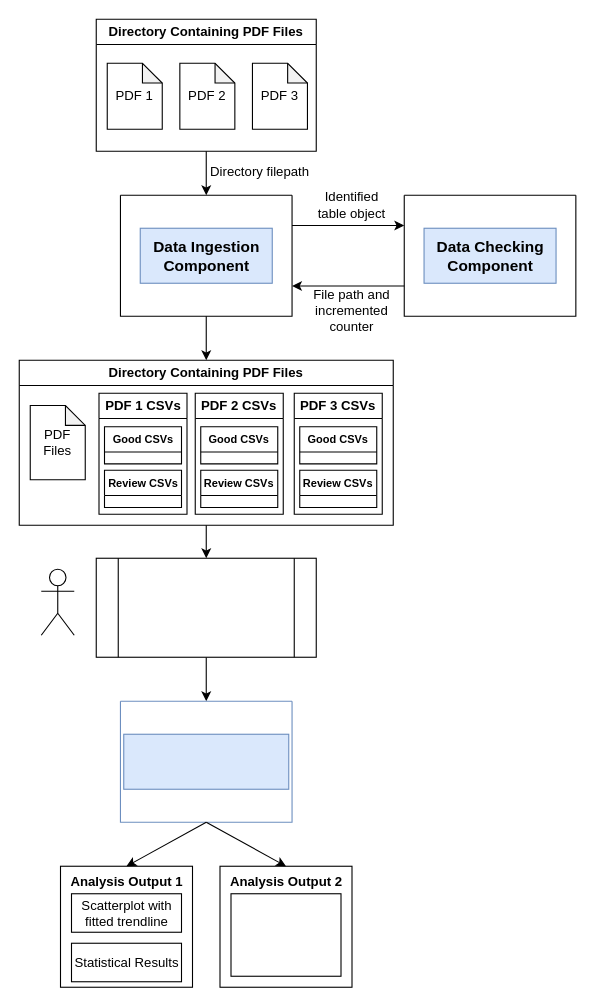
Image size: 595x1007. Some labels were removed from this diagram. The centre of each missing label's shape, as x and y in pixels:
"Actor" belongs at point (57, 601).
"Process Extracted CSVs into Datafiles for Analysis" belongs at point (205, 607).
"Scatterplot with trendlines" belongs at point (285, 934).
"Statistical Analysis Component" belongs at point (206, 761).
